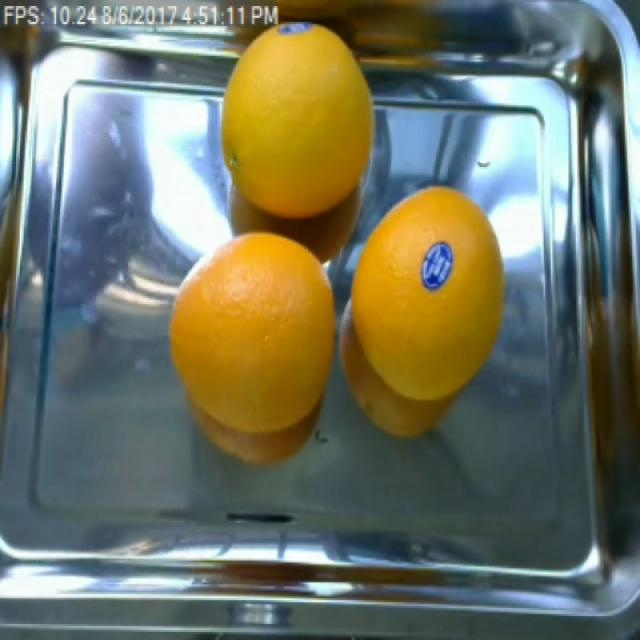Fruit: (202, 4, 378, 223), (329, 272, 499, 449), (416, 235, 460, 300)
